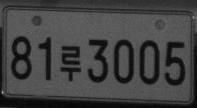0: (138, 38, 160, 86), (113, 38, 135, 85)
1: (36, 35, 58, 81)
3: (87, 38, 109, 84)
5: (163, 40, 186, 86)
8: (9, 35, 33, 81)
루: (59, 44, 82, 81)
